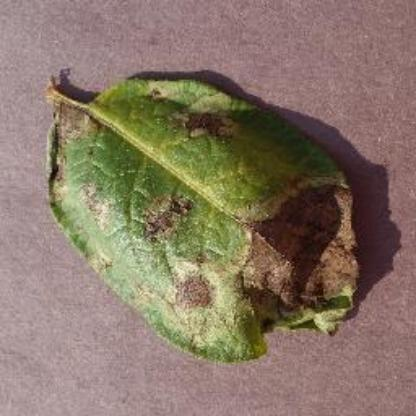Late-Blight: (29, 67, 381, 367)
